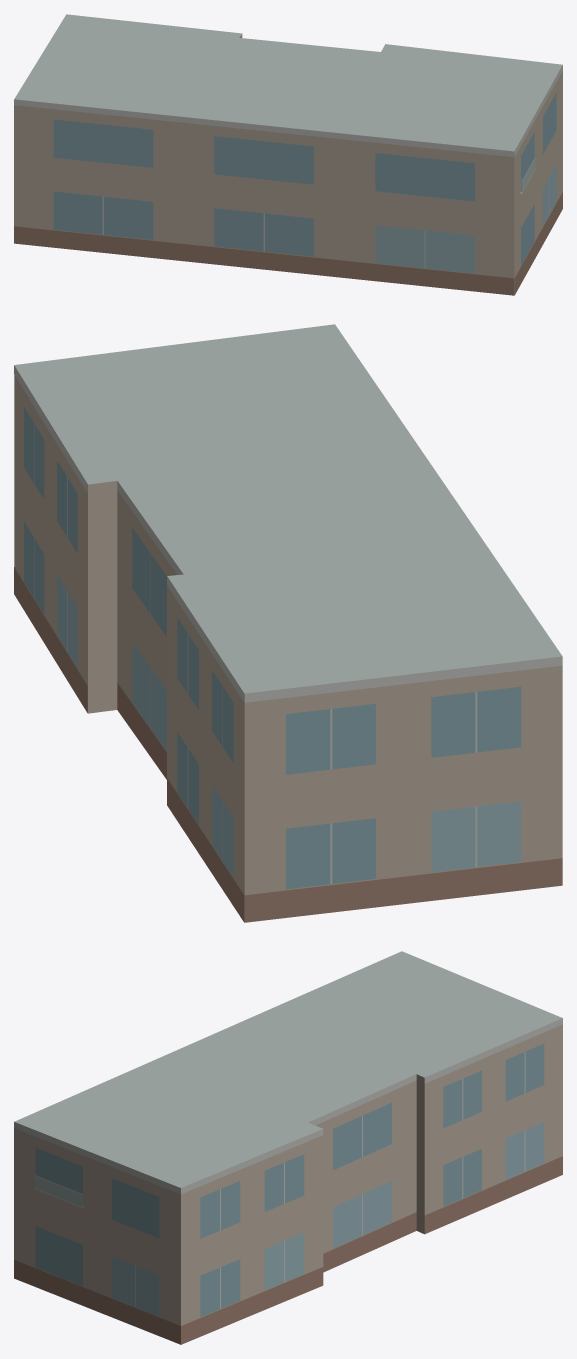
The model's file is survey-upis-32928743.glb.
3 views of the same model, one above another, from view 1: azimuth 30°, elevation 25°; view 2: azimuth 150°, elevation 25°; view 3: azimuth 270°, elevation 25° (orthographic). The views are drawn at different scales.
Parts seen in each view (by area): view 1: survey-upis-32928743.tmp; view 2: survey-upis-32928743.tmp; view 3: survey-upis-32928743.tmp.
Part boxes in pixels (left/top/right/bottom): survey-upis-32928743.tmp: left=14, top=14, right=562, bottom=295; survey-upis-32928743.tmp: left=14, top=324, right=562, bottom=922; survey-upis-32928743.tmp: left=14, top=951, right=562, bottom=1344.
Bounding box in the file's own units: 19.8 × 6.1 × 19.37.
